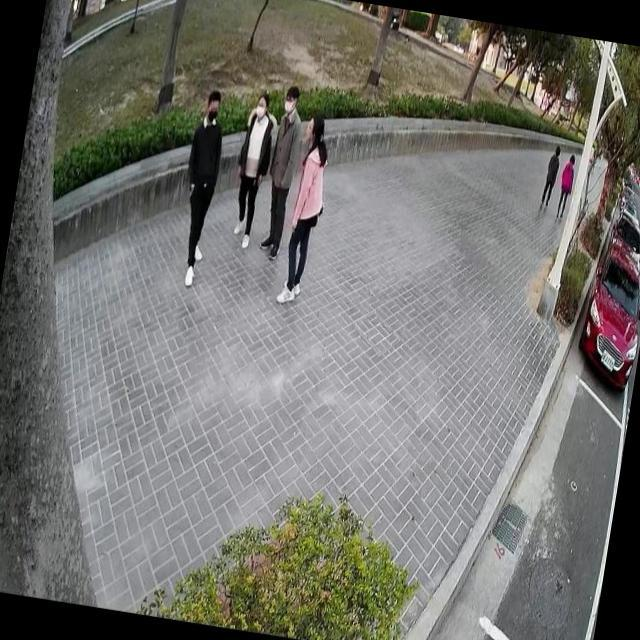person: (272, 108, 340, 309), (167, 84, 233, 291), (254, 80, 310, 266), (222, 87, 282, 250), (552, 147, 580, 228), (536, 138, 565, 215)
